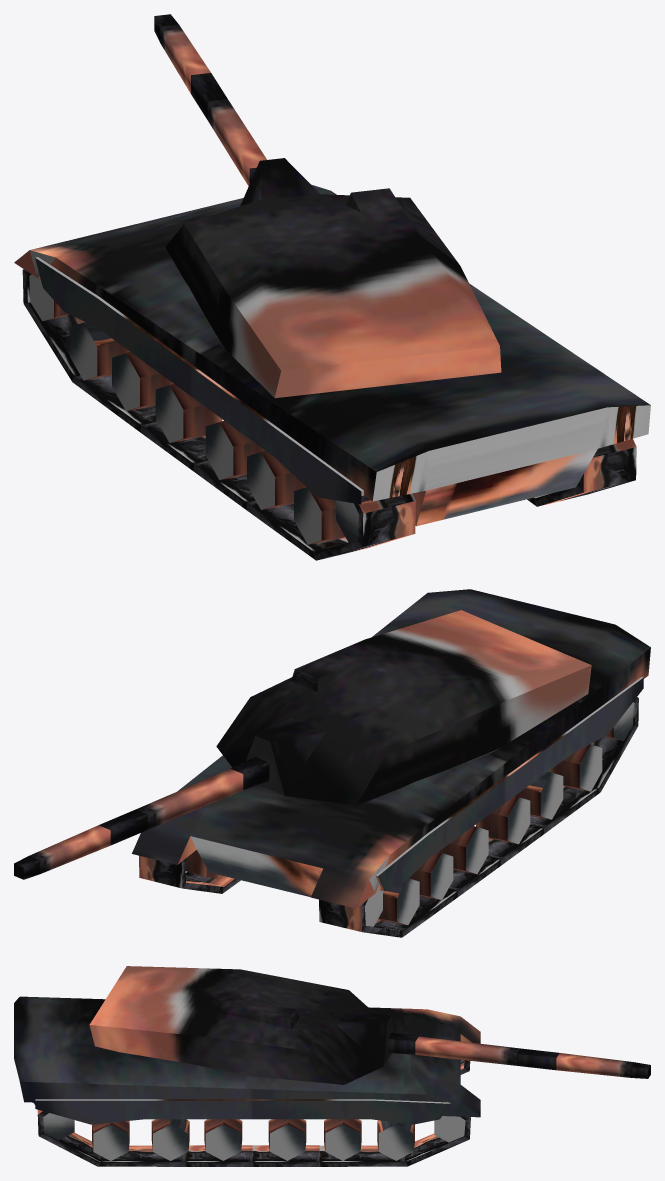
Rendered from list.ico.obj.
The picture shows the model from 3 angles, top to bottom: view 1: azimuth 30°, elevation 25°; view 2: azimuth 150°, elevation 25°; view 3: azimuth 270°, elevation 25°; orthographic projection. The views are drawn at different scales.
Size of the model in its own units: 1.66 by 1.1 by 4.8.
